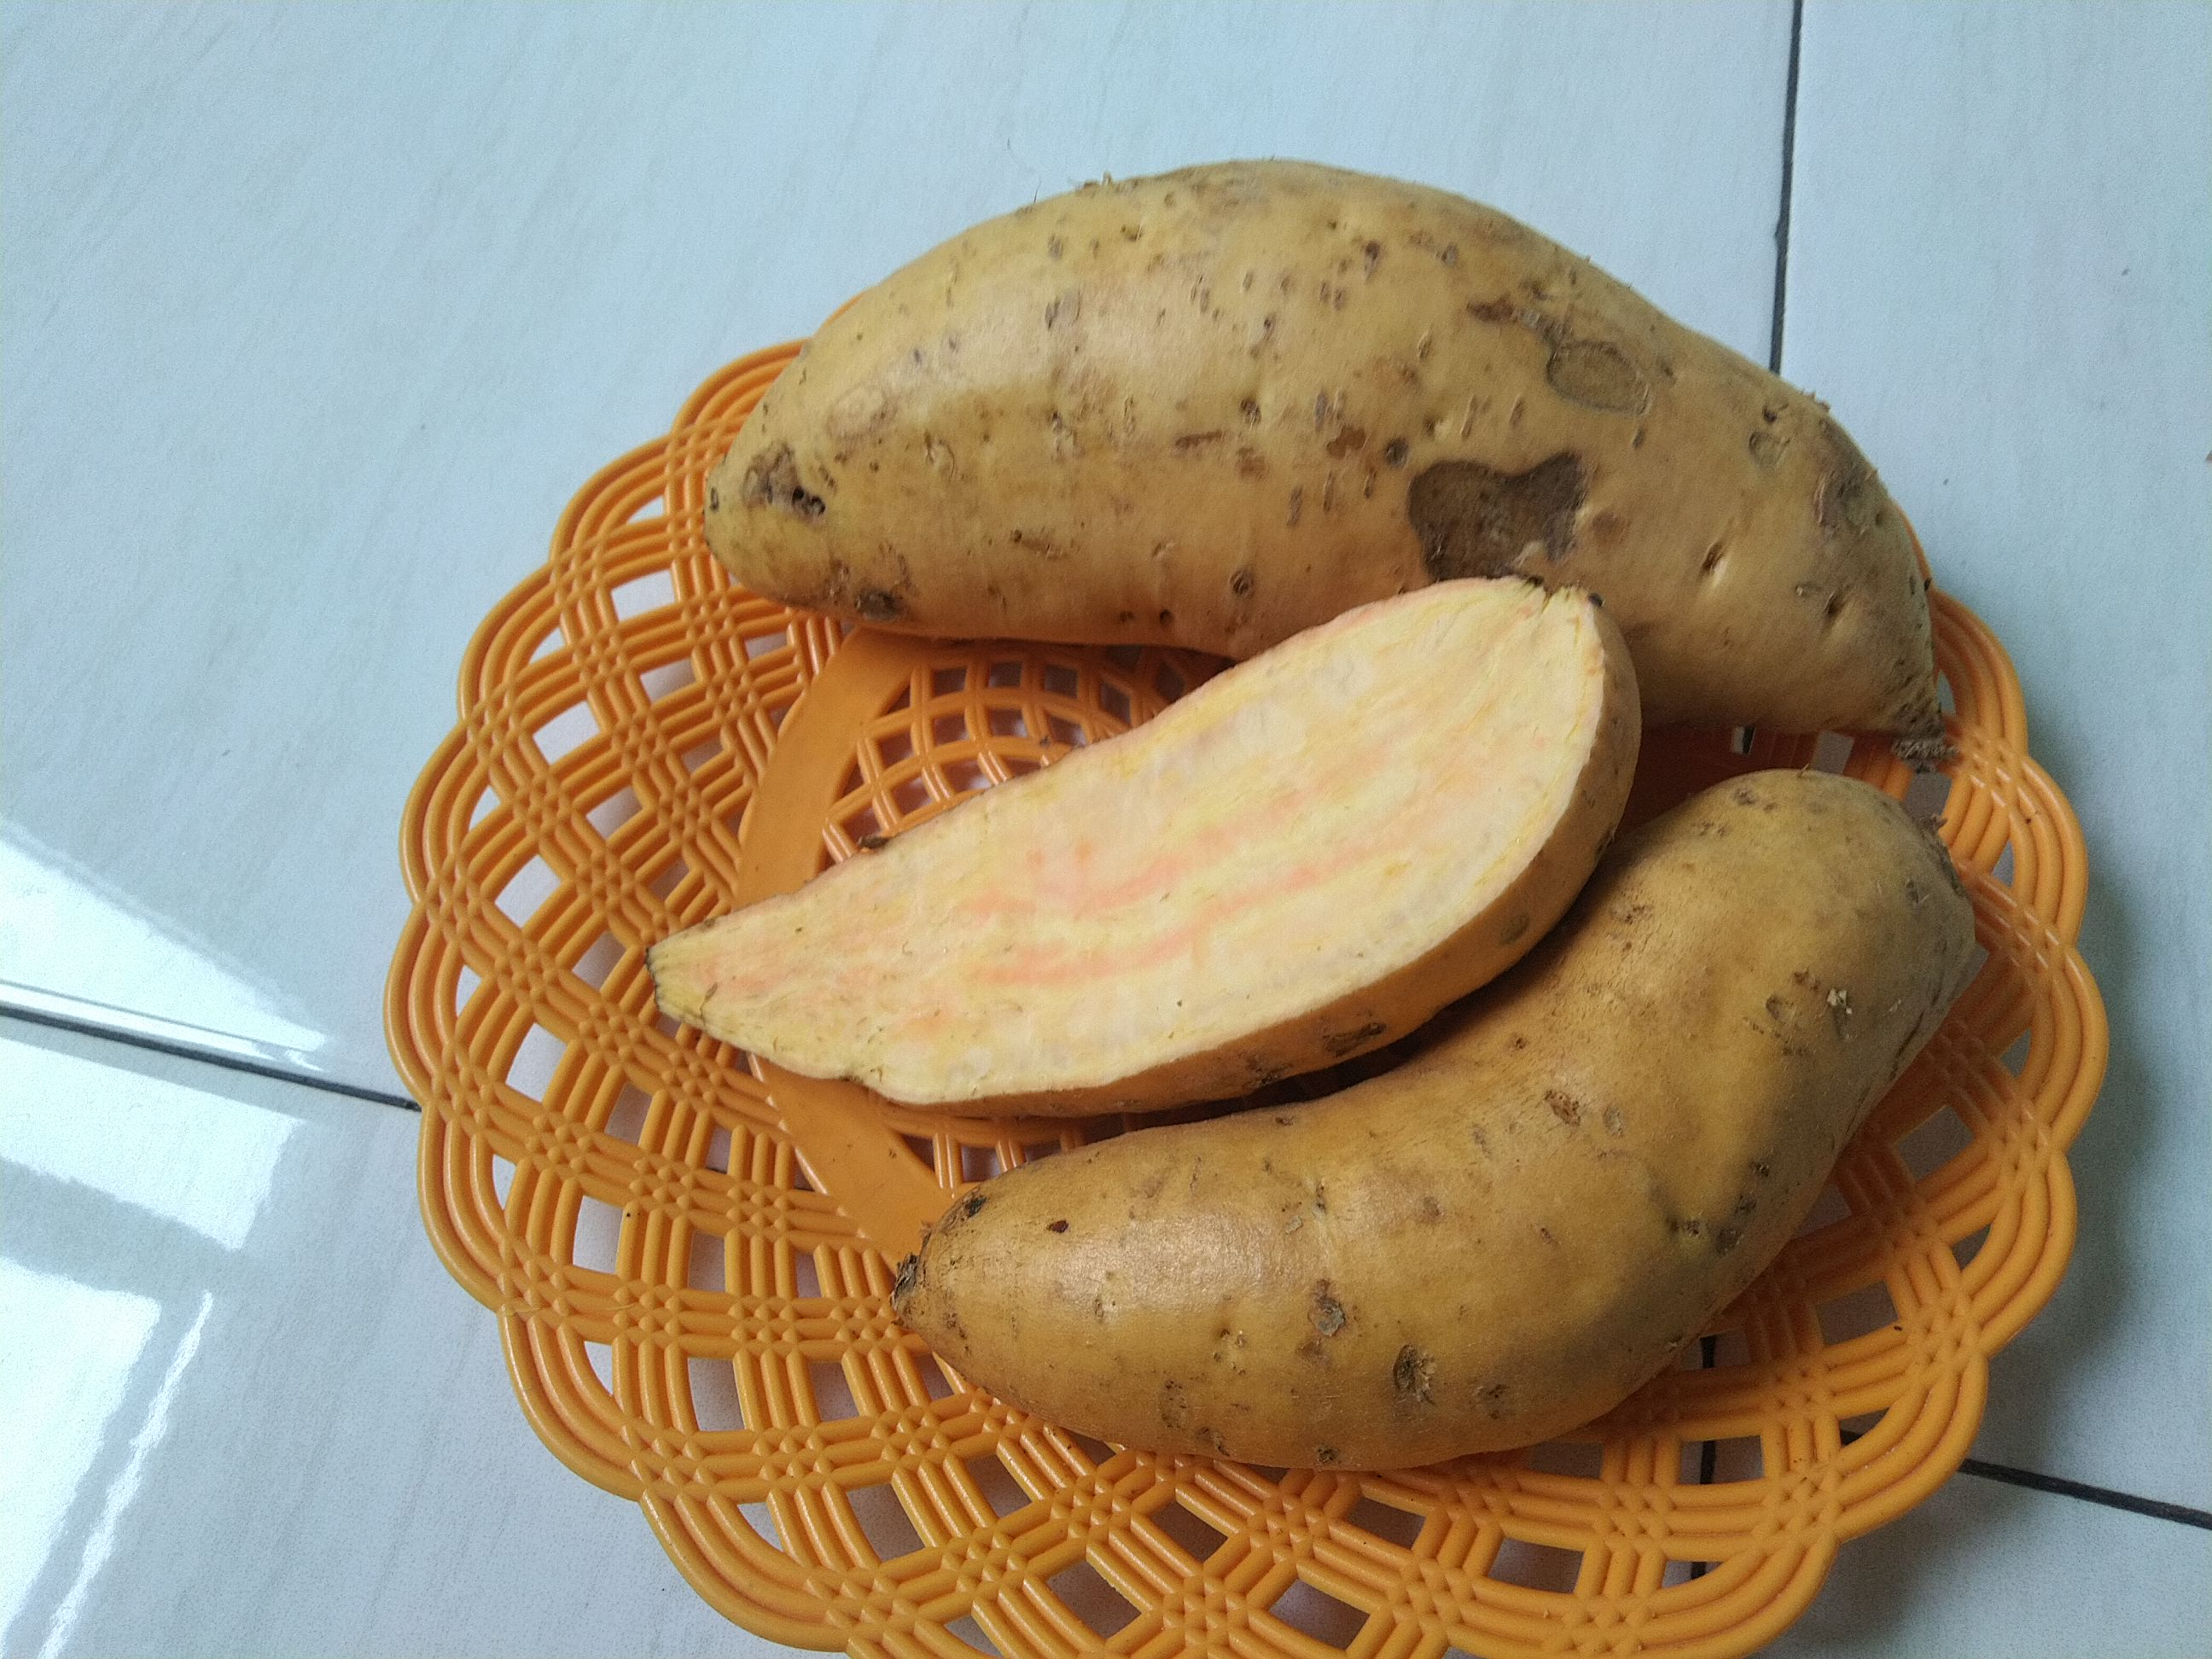ubi cilembu: (880, 746, 1996, 1480), (700, 152, 1966, 734), (648, 596, 1691, 1124)
